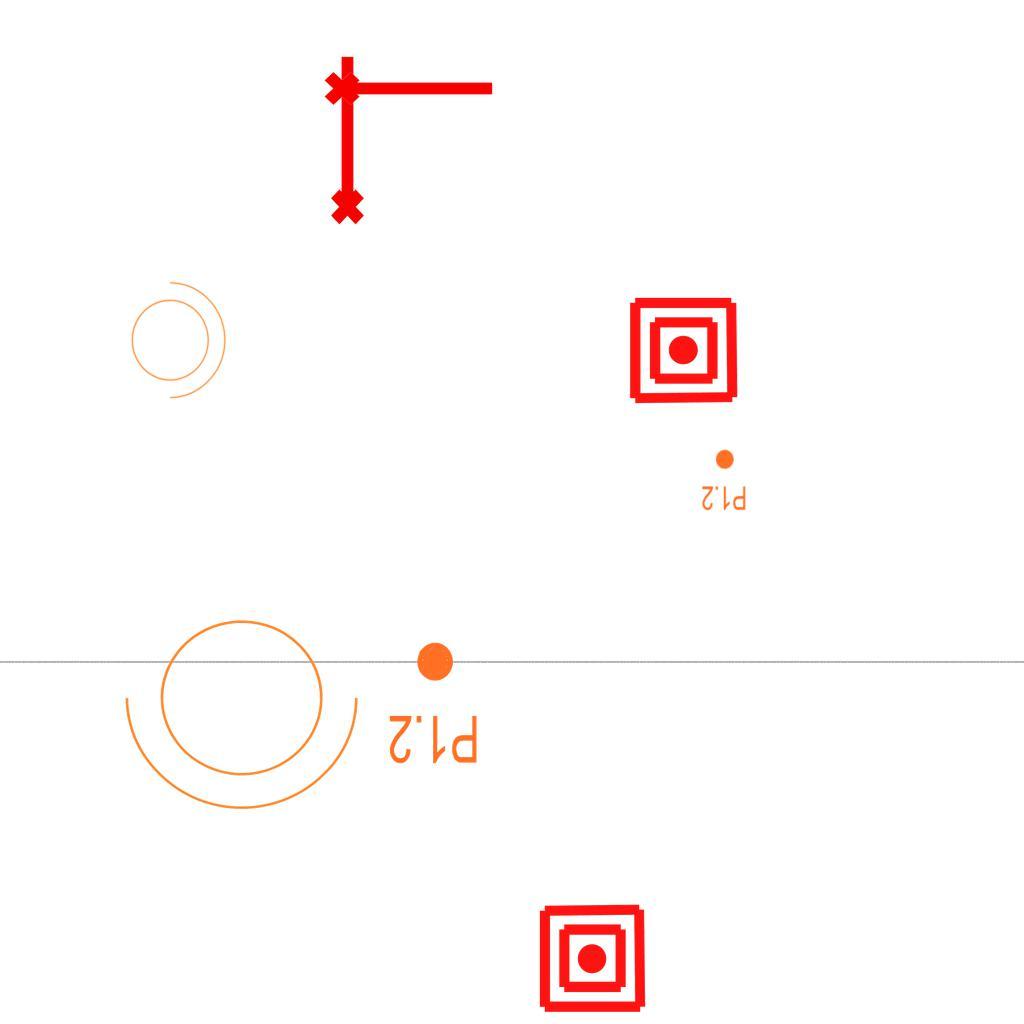ASR_Ansaugoeffnung: (322, 51, 368, 227), (322, 63, 498, 109)
Downlight_LED_Einbauleuchten_Flur: (387, 639, 480, 767), (701, 448, 747, 512)
NAM-Nichtautomatischer_Melder: (627, 294, 740, 407), (536, 902, 649, 1015)
Scheinwerfer_fuer_Alarmbeleuchtung: (116, 595, 380, 820), (119, 271, 231, 403)
